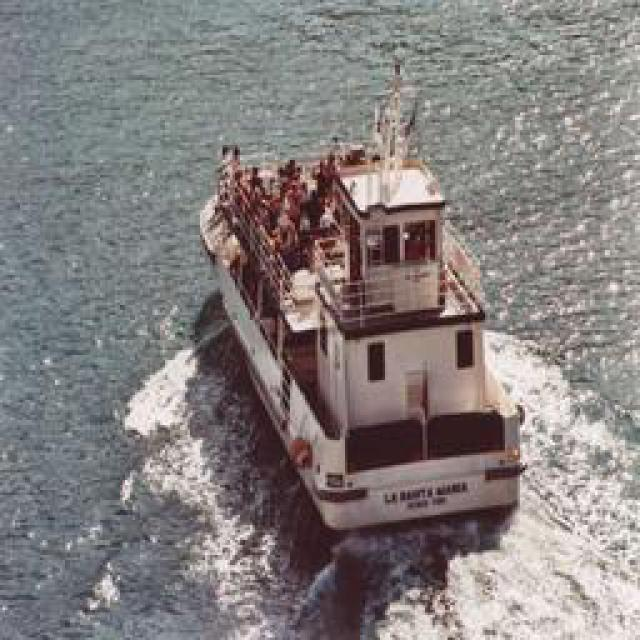Ship: (193, 46, 531, 591)
